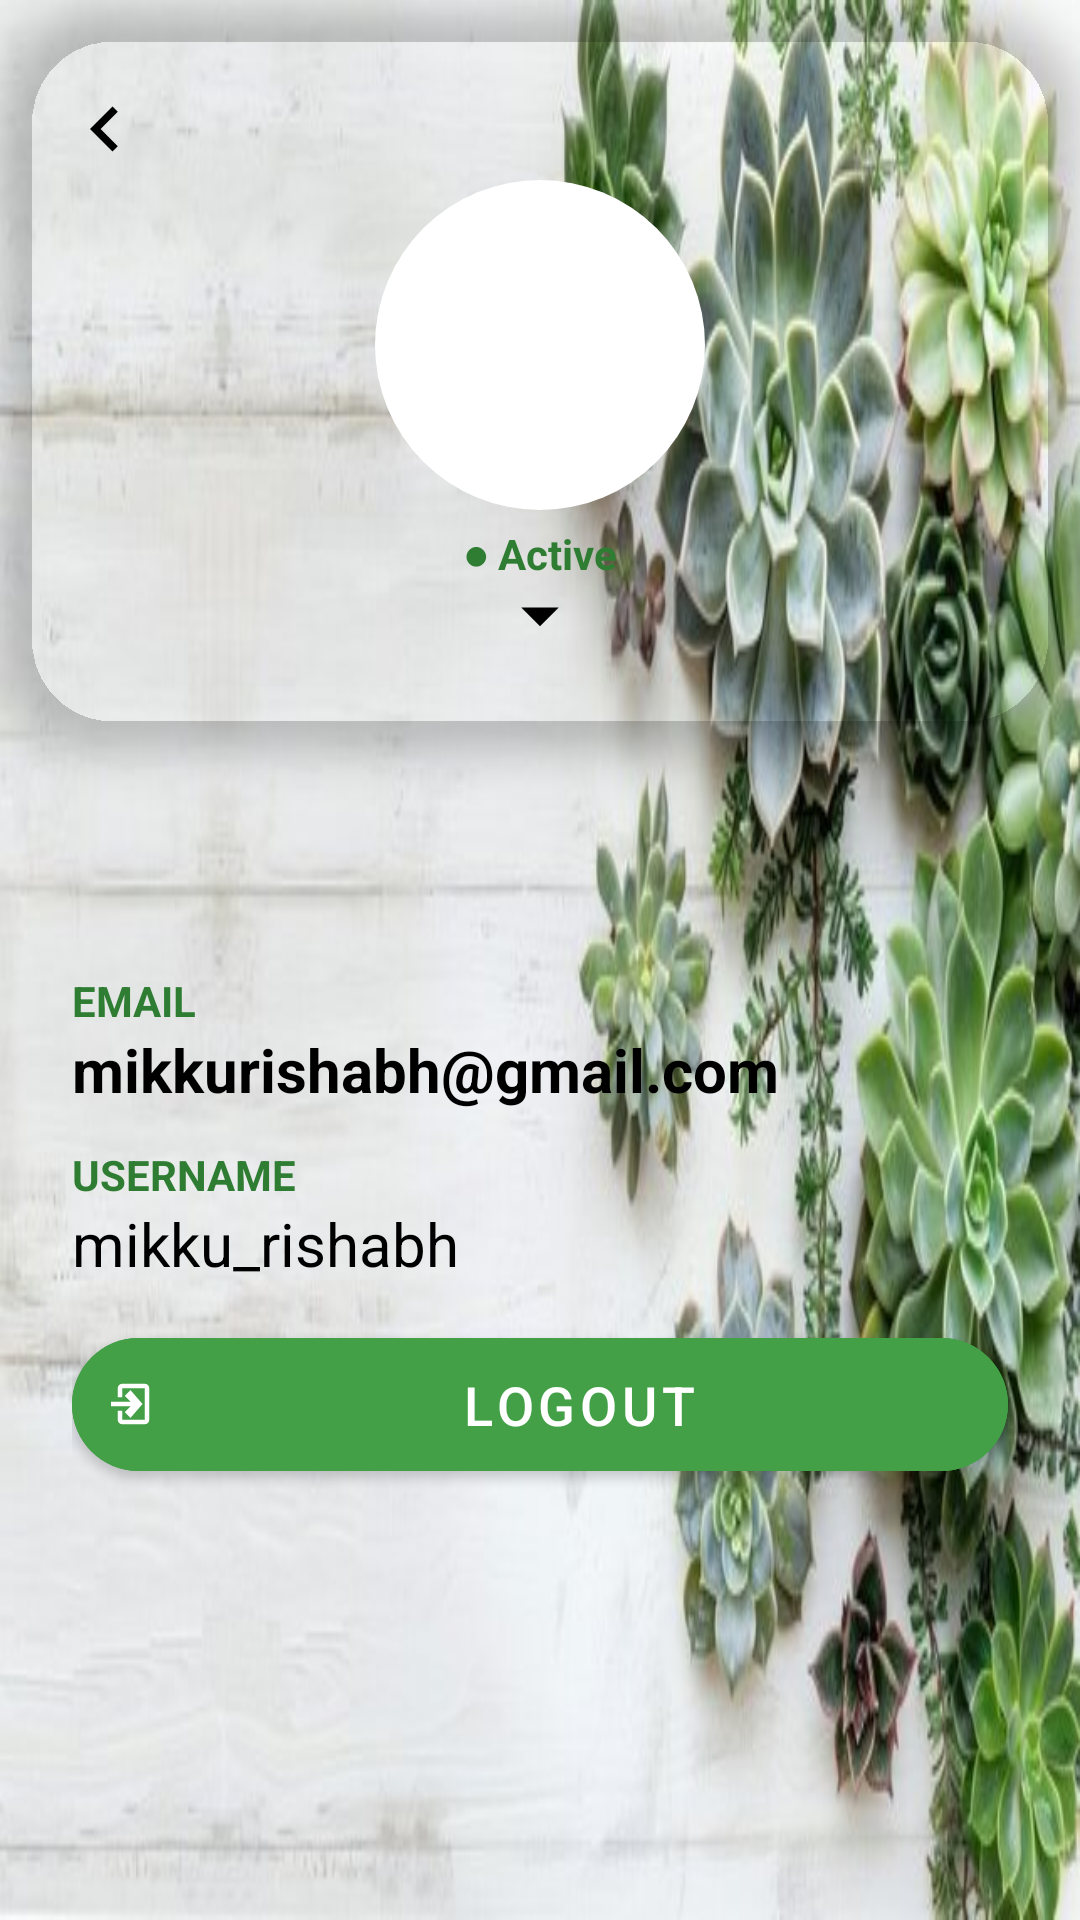

Named icons in this screenshot (1080 x 1920) and their bounding boxes, box(x1, y1, x2, y2):
back arrow: box(90, 106, 118, 152)
dropdown: box(521, 607, 559, 626)
